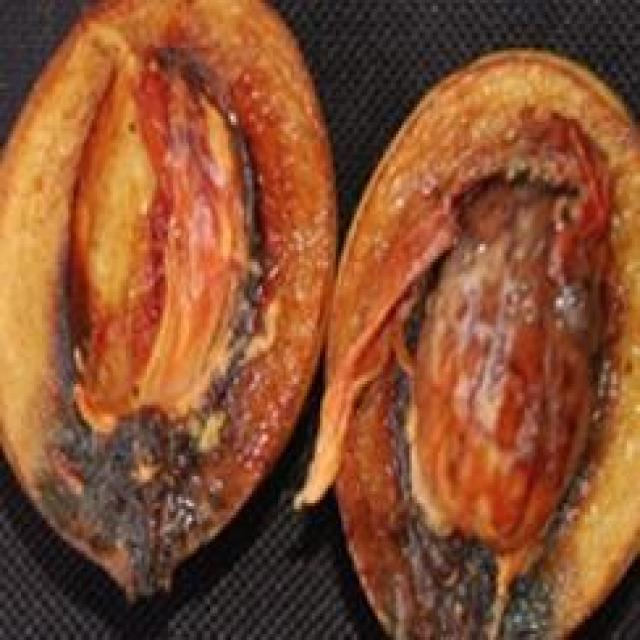damaged: (294, 51, 637, 637), (0, 0, 336, 592)
